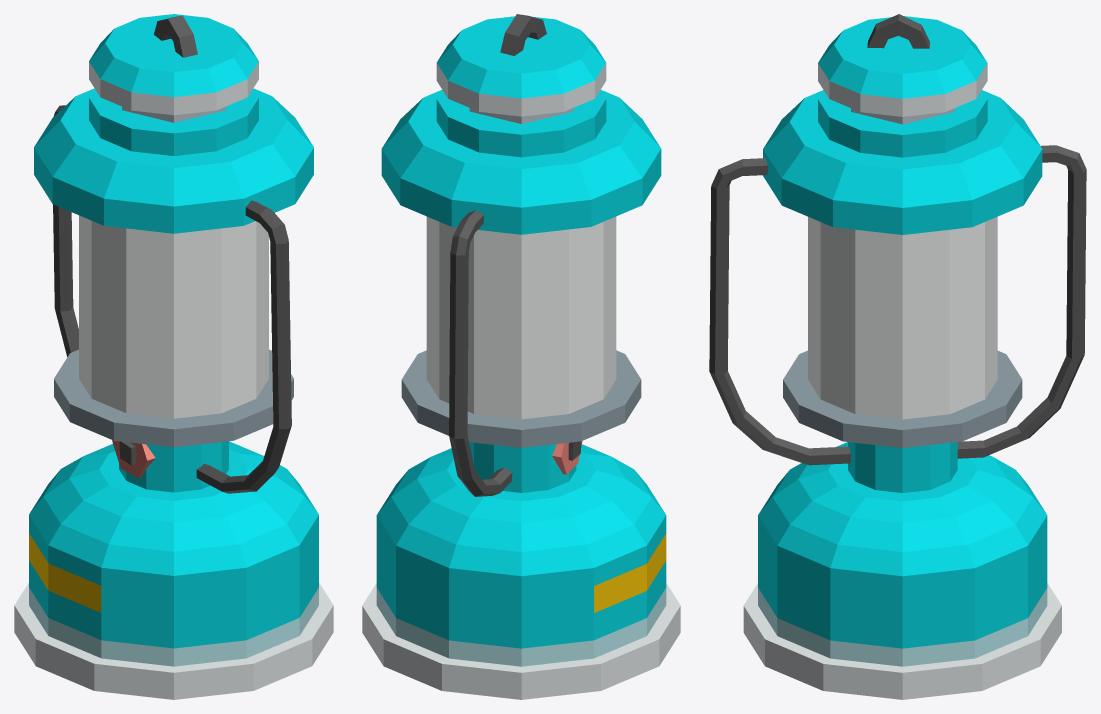
File: lamp.gltf
The picture shows the model from 3 angles, left to right: view 1: azimuth 30°, elevation 25°; view 2: azimuth 150°, elevation 25°; view 3: azimuth 270°, elevation 25°; orthographic projection.
Visible parts, largest first — view 1: group1769749722; view 2: group1769749722; view 3: group1769749722.
Boxes of the visible parts, x1,y1,x2,y2 form: group1769749722: (14, 14, 333, 699); group1769749722: (362, 14, 680, 699); group1769749722: (709, 14, 1086, 699).
Size of the model in its own units: 0.56 by 1.19 by 0.6637.
